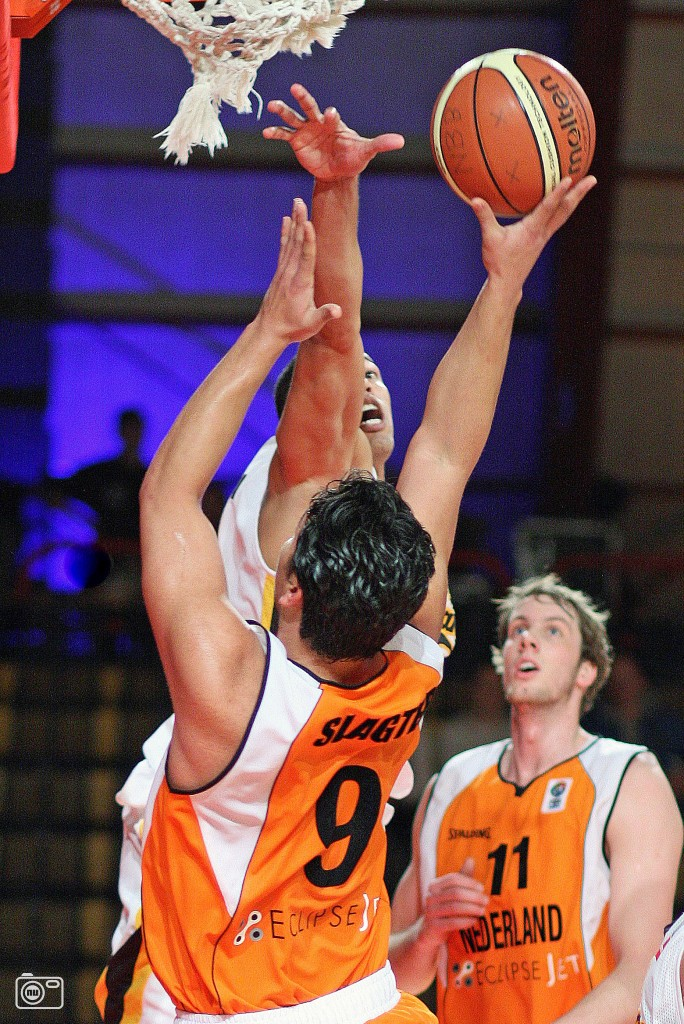basketball: (432, 46, 597, 215)
